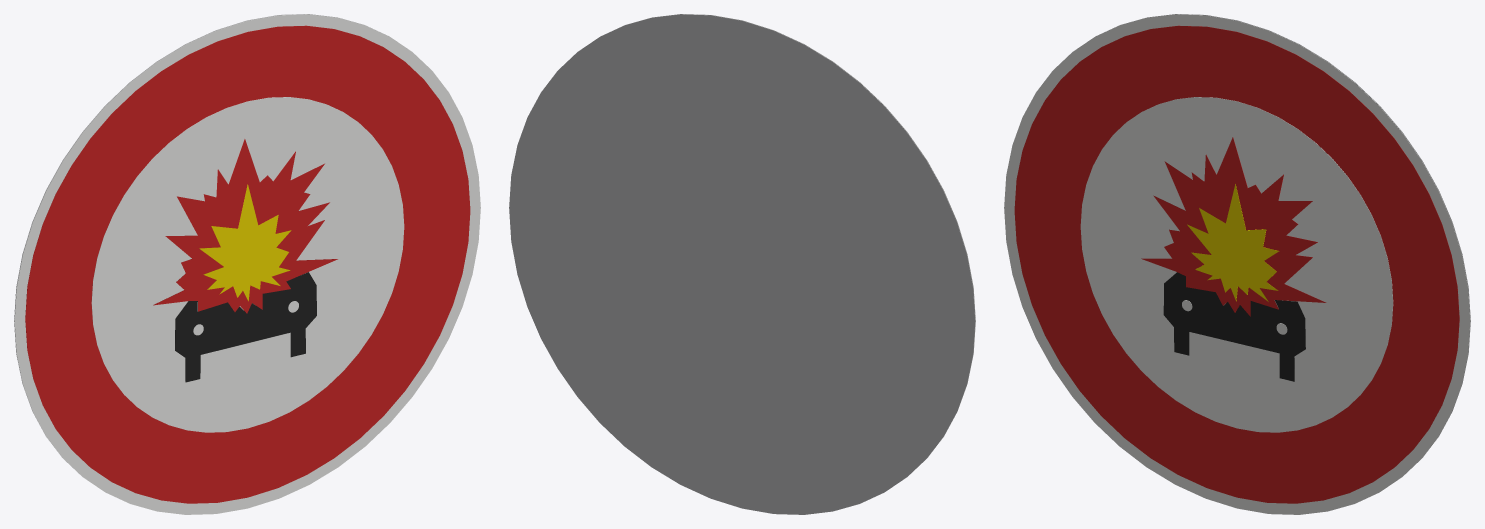
The picture shows the model from 3 angles, left to right: view 1: azimuth 30°, elevation 25°; view 2: azimuth 150°, elevation 25°; view 3: azimuth 330°, elevation 25°; orthographic projection.
Parts seen in each view (by area): view 1: B18a_p01, B18a_p02, B18a_p00, B18a_p06, B18a_p03, B18a_p07, B18a_dos; view 2: B18a_dos, B18a_p00; view 3: B18a_p01, B18a_p02, B18a_p00, B18a_p06, B18a_p03, B18a_p07, B18a_dos.
Part boxes in pixels (x1,y1,x2,y2): B18a_p01: (25,25,470,503); B18a_p02: (91,97,404,432); B18a_p00: (14,14,480,514); B18a_p06: (153,139,337,313); B18a_p03: (175,272,316,382); B18a_p07: (199,184,291,301); B18a_dos: (14,14,385,473); B18a_dos: (509,14,975,514); B18a_p00: (604,14,975,473); B18a_p01: (1014,25,1459,503); B18a_p02: (1080,97,1393,432); B18a_p00: (1004,14,1470,514); B18a_p06: (1141,137,1326,316); B18a_p03: (1163,272,1305,381); B18a_p07: (1187,184,1278,301); B18a_dos: (1099,14,1470,473).
Size of the model in its own units: 0.85 by 0.8498 by 0.0047.
